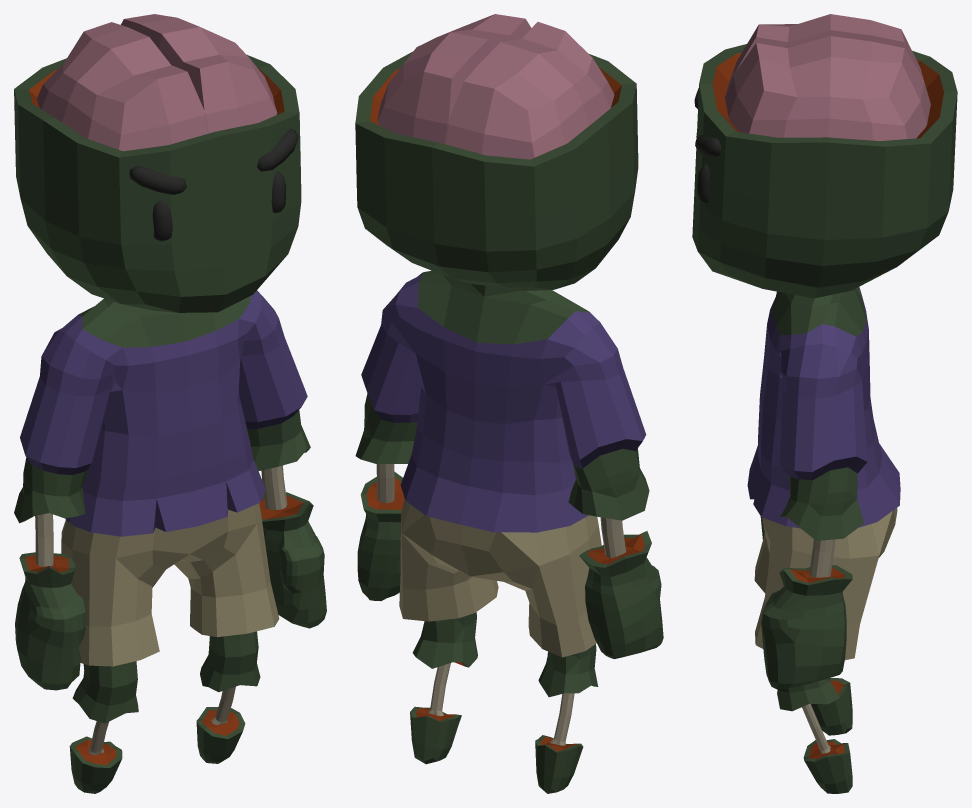
Rendered from zombie-male-3e0ebe0b07.glb.
The picture shows the model from 3 angles, left to right: view 1: azimuth 30°, elevation 25°; view 2: azimuth 150°, elevation 25°; view 3: azimuth 270°, elevation 25°; orthographic projection.
Visible parts, largest first — view 1: Zombie_Male.obj; view 2: Zombie_Male.obj; view 3: Zombie_Male.obj.
Boxes of the visible parts, <box> form: Zombie_Male.obj: <box>14,14,326,793</box>; Zombie_Male.obj: <box>355,14,663,793</box>; Zombie_Male.obj: <box>692,14,957,793</box>.
Size of the model in its own units: 1.29 by 3.06 by 1.01.
